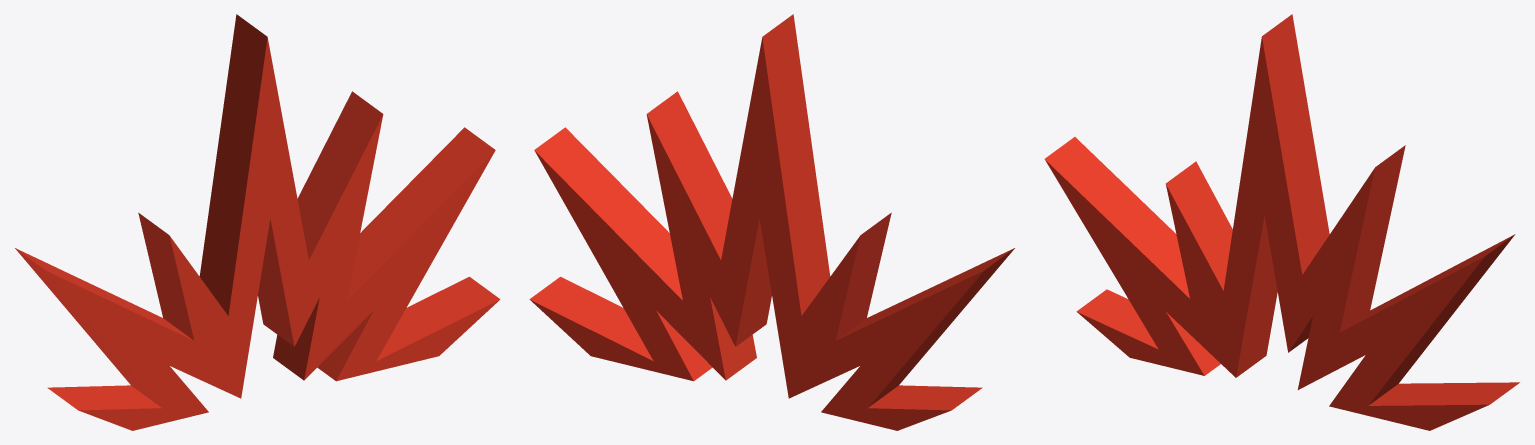
Rendered from Icon_Explosion_02.fbx.
3 views of the same model, side by side, from view 1: azimuth 30°, elevation 25°; view 2: azimuth 150°, elevation 25°; view 3: azimuth 330°, elevation 25° (orthographic). The views are drawn at different scales.
Parts seen in each view (by area): view 1: Icon_Explosion_02; view 2: Icon_Explosion_02; view 3: Icon_Explosion_02.
Boxes of the visible parts, <box> form: Icon_Explosion_02: <box>15,14,500,430</box>; Icon_Explosion_02: <box>529,14,1014,430</box>; Icon_Explosion_02: <box>1044,14,1519,430</box>.
Bounding box in the file's own units: 102 × 77.14 × 12.06.
